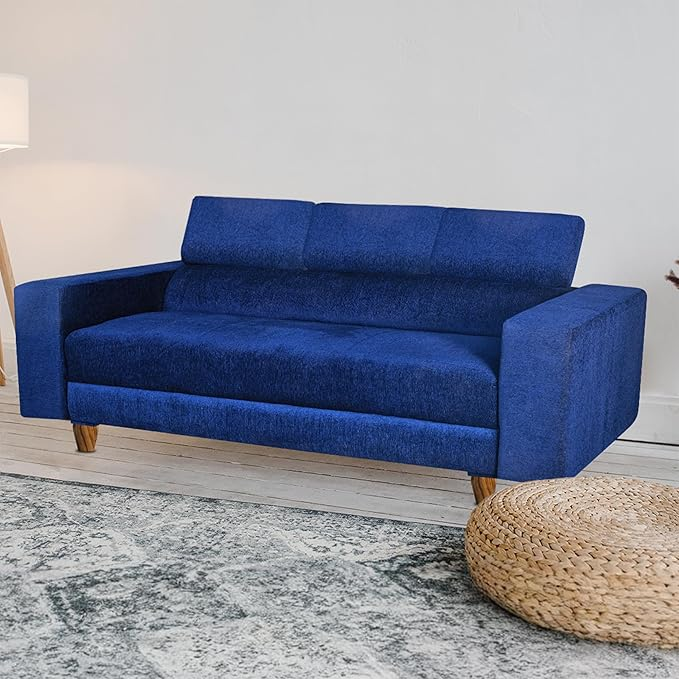3seatersofa: (16, 196, 645, 499)
backrest: (166, 197, 583, 335)
base: (68, 383, 495, 472)
leftarmrest: (491, 285, 645, 480)
leg: (73, 423, 97, 451), (471, 476, 495, 503)
rightarmrest: (16, 262, 178, 419)
seat: (65, 311, 499, 429)
